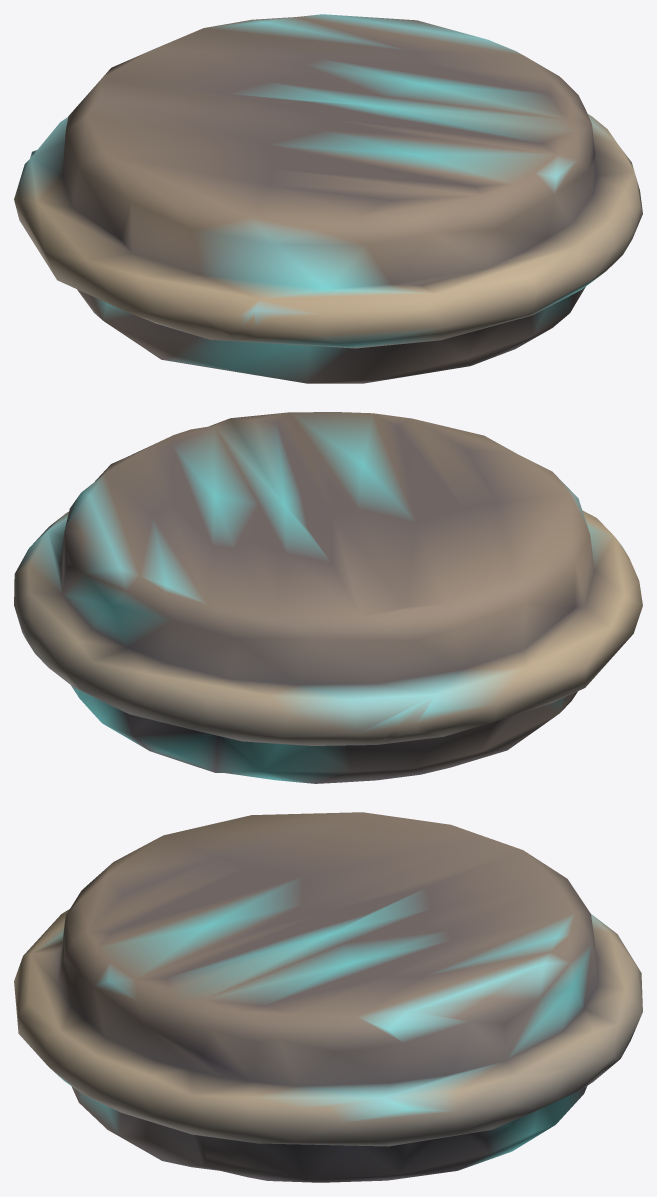
The model's file is burrower_seg2.glb.
The picture shows the model from 3 angles, top to bottom: view 1: azimuth 30°, elevation 25°; view 2: azimuth 150°, elevation 25°; view 3: azimuth 270°, elevation 25°; orthographic projection.
Parts seen in each view (by area): view 1: geometry_0; view 2: geometry_0; view 3: geometry_0.
Part boxes in pixels (x1,y1,x2,y2): geometry_0: (14, 14, 642, 383); geometry_0: (14, 412, 642, 783); geometry_0: (14, 812, 642, 1182).
Bounding box in the file's own units: 1.16 × 0.34 × 1.16.
